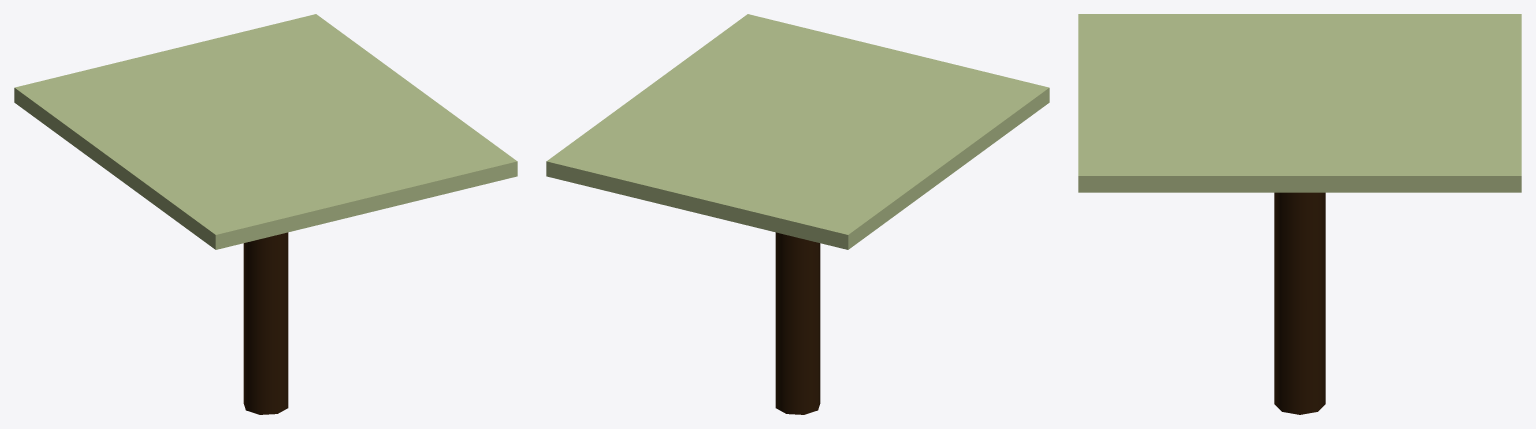
File: MesaBar.fbx
The picture shows the model from 3 angles, left to right: view 1: azimuth 30°, elevation 25°; view 2: azimuth 150°, elevation 25°; view 3: azimuth 270°, elevation 25°; orthographic projection. The views are drawn at different scales.
Parts seen in each view (by area): view 1: MesaBar, BaseMesaBar; view 2: MesaBar, BaseMesaBar; view 3: MesaBar, BaseMesaBar.
Boxes of the visible parts, <box> form: MesaBar: <box>14,14,517,249</box>; BaseMesaBar: <box>243,232,288,414</box>; MesaBar: <box>546,14,1049,249</box>; BaseMesaBar: <box>775,232,820,414</box>; MesaBar: <box>1078,14,1521,192</box>; BaseMesaBar: <box>1274,192,1325,414</box>.
Bounding box in the file's own units: 12 × 10.68 × 13.87.
